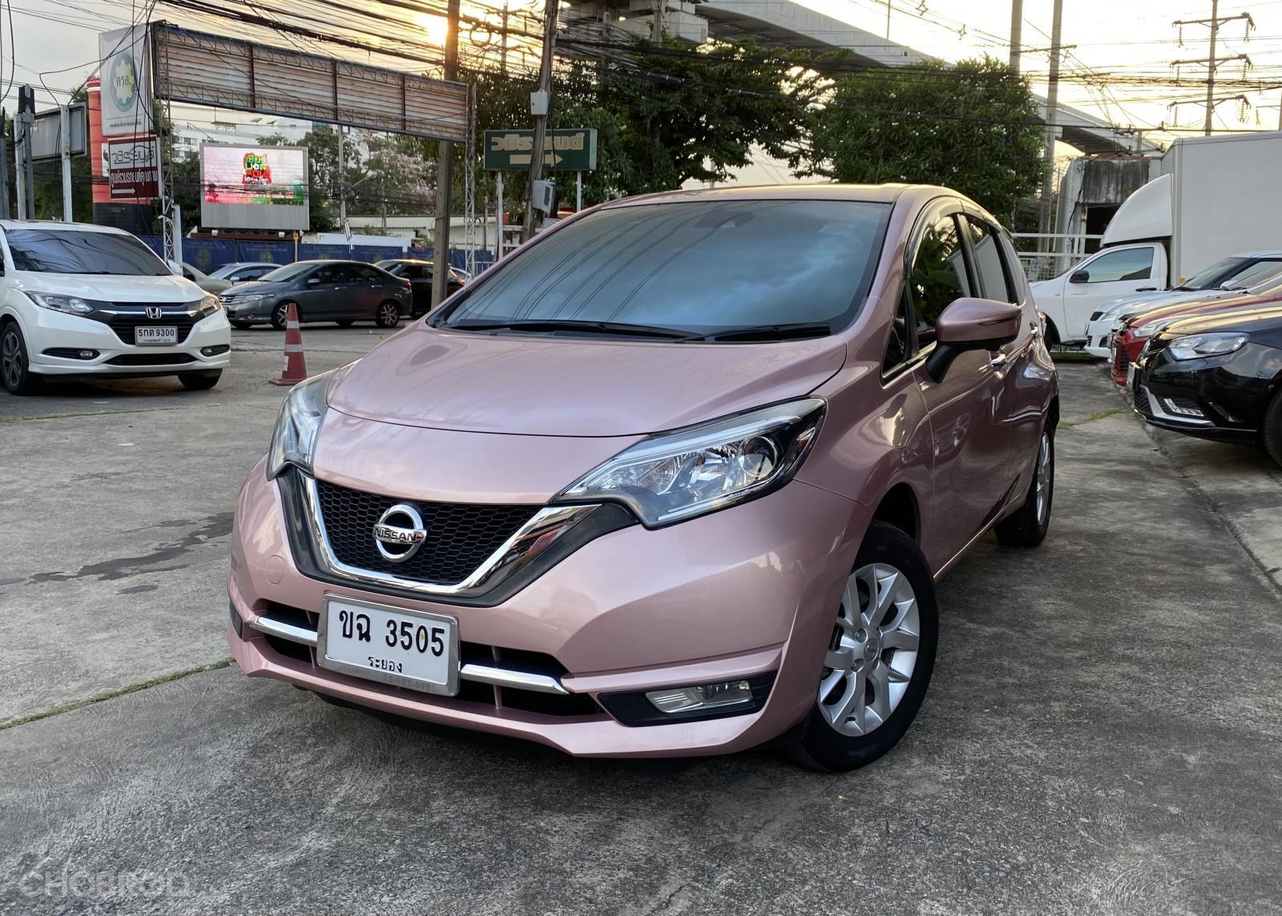license-plate: (313, 586, 470, 715)
